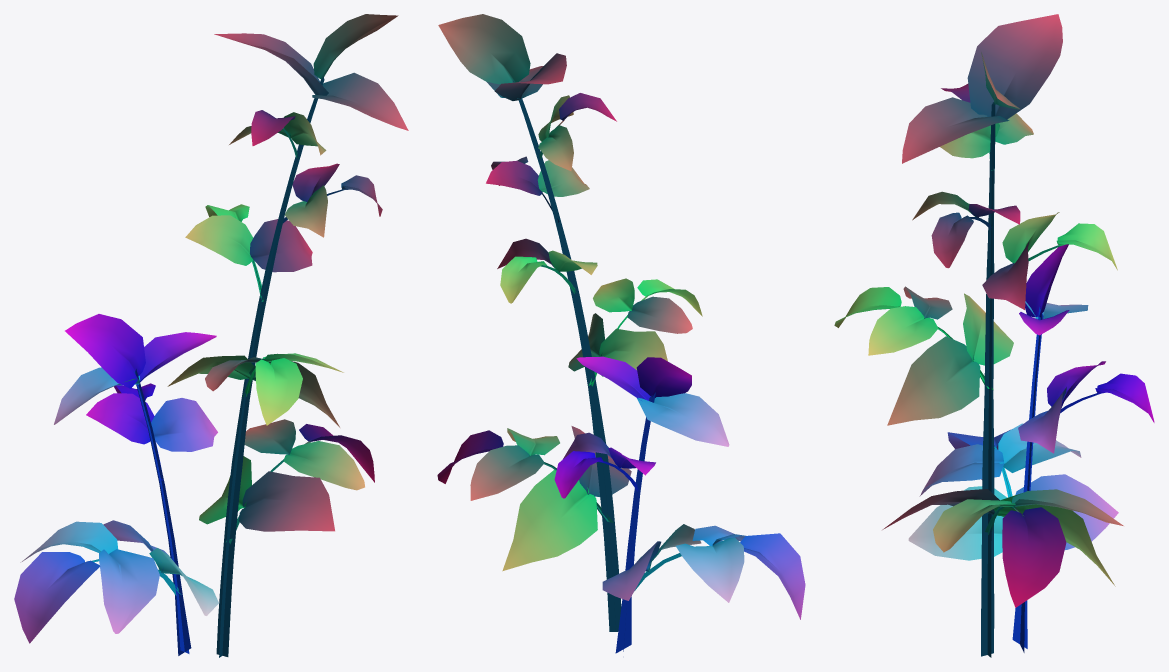
Rendered from Raspberry_wf0oefeja_High_wf0oefeja_VarB_LOD0.fbx.
3 renders of one model, left to right at view 1: azimuth 30°, elevation 25°; view 2: azimuth 150°, elevation 25°; view 3: azimuth 270°, elevation 25°, orthographic. The views are drawn at different scales.
Parts seen in each view (by area): view 1: _er5e_VarB_LOD0; view 2: _er5e_VarB_LOD0; view 3: _er5e_VarB_LOD0.
Part boxes in pixels (x1,y1,x2,y2): _er5e_VarB_LOD0: (14, 14, 408, 657); _er5e_VarB_LOD0: (437, 14, 805, 653); _er5e_VarB_LOD0: (834, 14, 1154, 657).
Bounding box in the file's own units: 20.7 × 32.44 × 13.84.
